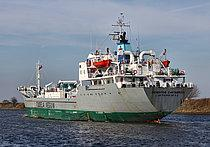Ship: (19, 7, 201, 127)
